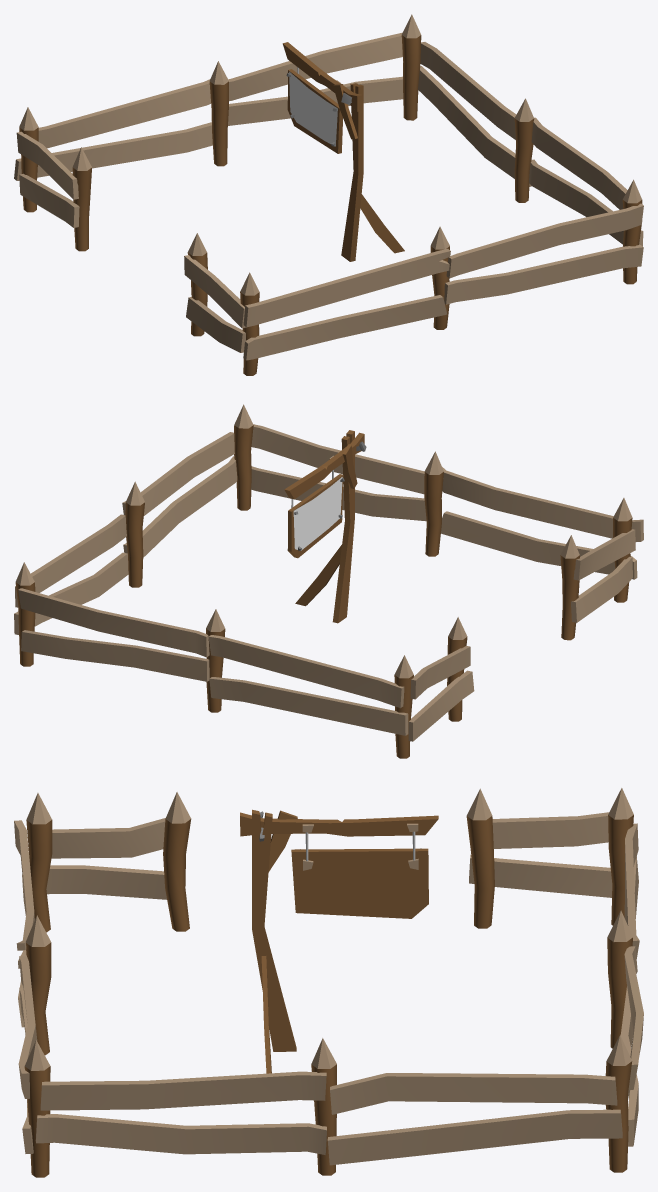
The model's file is property.fbx.
The picture shows the model from 3 angles, top to bottom: view 1: azimuth 30°, elevation 25°; view 2: azimuth 150°, elevation 25°; view 3: azimuth 270°, elevation 25°; orthographic projection. The views are drawn at different scales.
Visible parts, largest first — view 1: Property; view 2: Property; view 3: Property.
Part boxes in pixels (x1=…): Property: x1=14, y1=14, x2=643, y2=375; Property: x1=14, y1=404, x2=643, y2=758; Property: x1=14, y1=788, x2=643, y2=1177.
Size of the model in its own units: 353 by 150 by 355.
